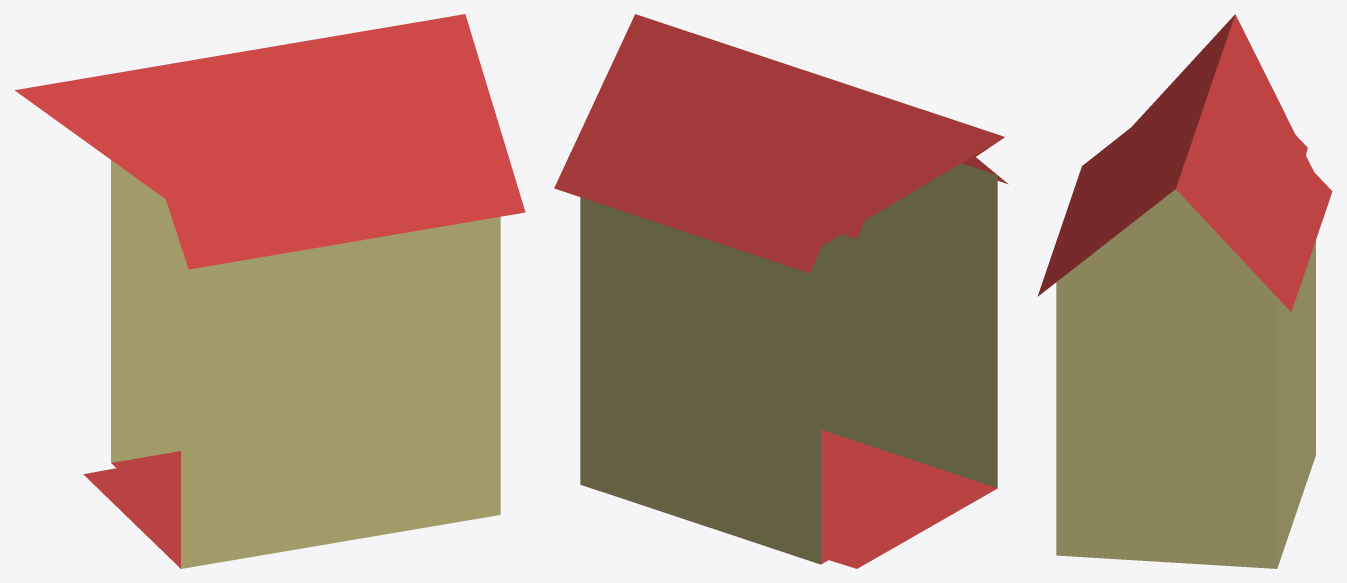
The picture shows the model from 3 angles, left to right: view 1: azimuth 30°, elevation 25°; view 2: azimuth 150°, elevation 25°; view 3: azimuth 270°, elevation 25°; orthographic projection. The views are drawn at different scales.
Size of the model in its own units: 13 by 8.9 by 12.68.
